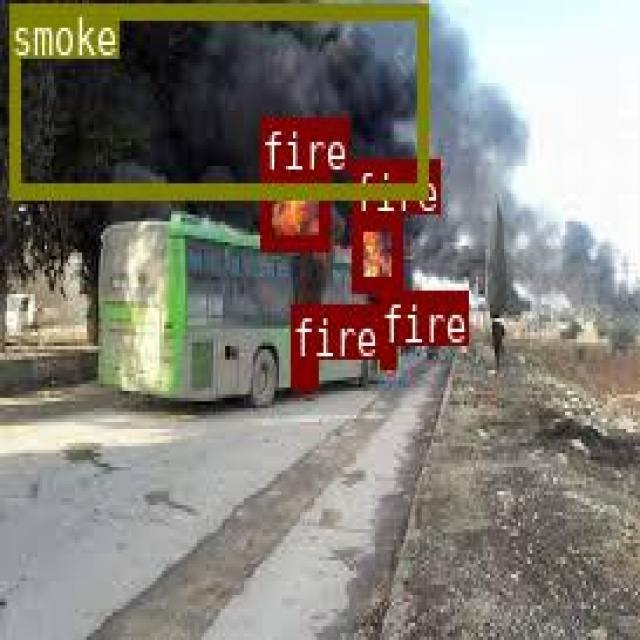fire: (258, 171, 327, 246), (350, 212, 400, 290), (289, 356, 315, 385), (379, 345, 393, 366)
smoke: (8, 1, 425, 195)
